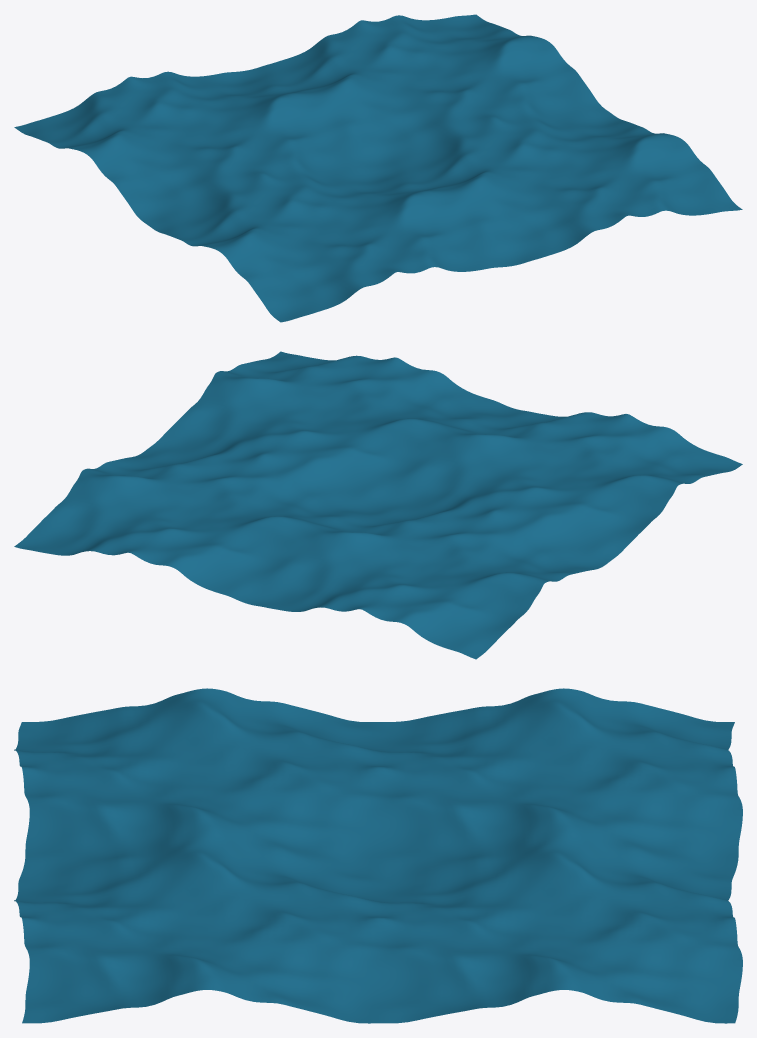
File: water test 2.fbx
3 renders of one model, top to bottom at view 1: azimuth 30°, elevation 25°; view 2: azimuth 150°, elevation 25°; view 3: azimuth 270°, elevation 25°, orthographic. The views are drawn at different scales.
Visible parts, largest first — view 1: Plane; view 2: Plane; view 3: Plane.
Part boxes in pixels (box(x1,y1,x2,y2)): Plane: box(14, 14, 742, 322); Plane: box(14, 351, 742, 659); Plane: box(14, 688, 742, 1023).
Size of the model in its own units: 27073 by 1633 by 27222.
